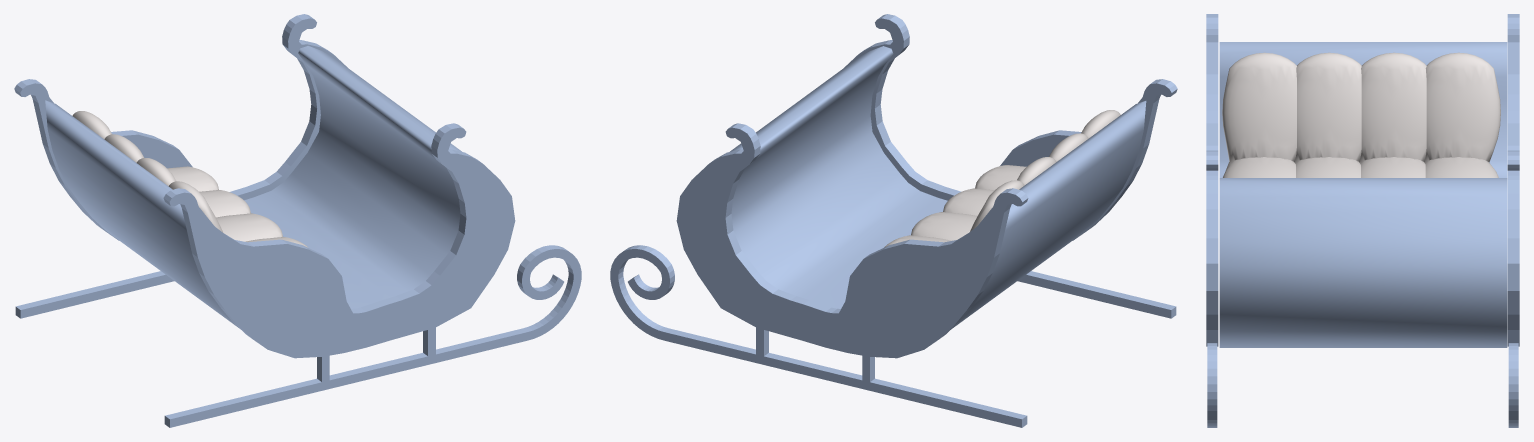
Rendered from sleigh.fbx.
3 views of the same model, side by side, from view 1: azimuth 30°, elevation 25°; view 2: azimuth 150°, elevation 25°; view 3: azimuth 270°, elevation 25° (orthographic).
Visible parts, largest first — view 1: sitting.001, Cube, Cube.001, Sphere.001, Sphere.002, Sphere.003, Sphere.004; view 2: sitting.001, Cube.001, Cube, Sphere.002, Sphere.001, Sphere.004, Sphere.003; view 3: sitting.001, Sphere.004, Sphere.003, Sphere.002, Sphere.001, Cube, Cube.001.
Part boxes in pixels (left/top/right/bottom): sitting.001: left=45, top=46, right=461, bottom=328; Cube: left=163, top=123, right=581, bottom=427; Cube.001: left=14, top=14, right=347, bottom=318; Sphere.001: left=136, top=158, right=282, bottom=241; Sphere.002: left=104, top=134, right=250, bottom=217; Sphere.003: left=72, top=111, right=218, bottom=191; Sphere.004: left=168, top=181, right=308, bottom=247; sitting.001: left=730, top=46, right=1146, bottom=328; Cube.001: left=610, top=123, right=1028, bottom=427; Cube: left=844, top=14, right=1177, bottom=318; Sphere.002: left=911, top=157, right=1056, bottom=240; Sphere.001: left=943, top=133, right=1088, bottom=215; Sphere.004: left=975, top=110, right=1120, bottom=190; Sphere.003: left=884, top=180, right=1024, bottom=247; sitting.001: left=1219, top=42, right=1507, bottom=347; Sphere.004: left=1222, top=52, right=1296, bottom=177; Sphere.003: left=1424, top=52, right=1500, bottom=177; Sphere.002: left=1359, top=52, right=1426, bottom=177; Sphere.001: left=1294, top=52, right=1361, bottom=177; Cube: left=1206, top=14, right=1218, bottom=427; Cube.001: left=1507, top=14, right=1519, bottom=427.
Bounding box in the file's own units: 977 × 526 × 637.
